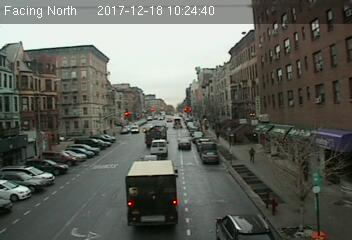car: (215, 209, 270, 240), (200, 149, 219, 163), (178, 137, 192, 149)
pedestrian: (248, 147, 255, 166)
truck: (150, 139, 170, 156)
ups: (124, 160, 180, 231)
